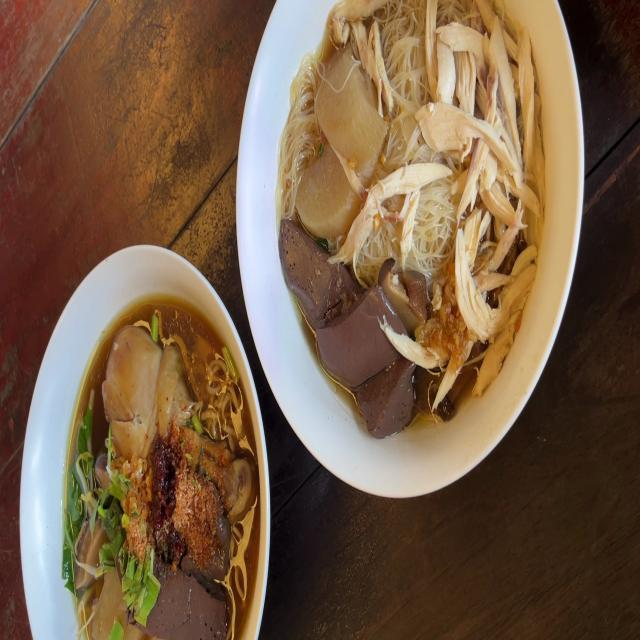boiled_chicken_blood_jelly: (276, 218, 352, 328), (320, 278, 388, 372), (153, 565, 231, 640), (358, 357, 416, 432)
chicken_drumstick: (100, 323, 256, 522)
chicken_shredded: (429, 0, 541, 353), (347, 158, 452, 254), (331, 1, 381, 35)
daikon_radish: (316, 46, 378, 168), (298, 143, 364, 237), (98, 572, 134, 638)
noodle: (276, 0, 535, 426), (62, 312, 255, 640)
